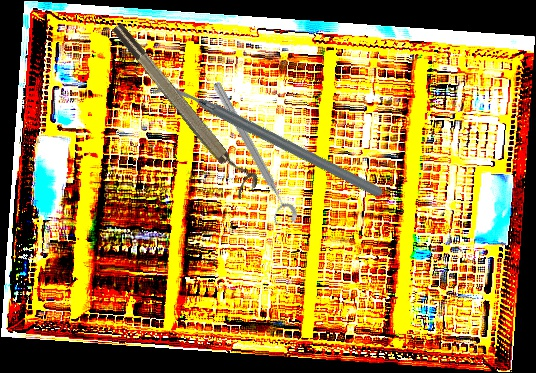Chopper: (148, 15, 386, 267)
Fixation Ring: (108, 14, 263, 200), (200, 78, 302, 232)
